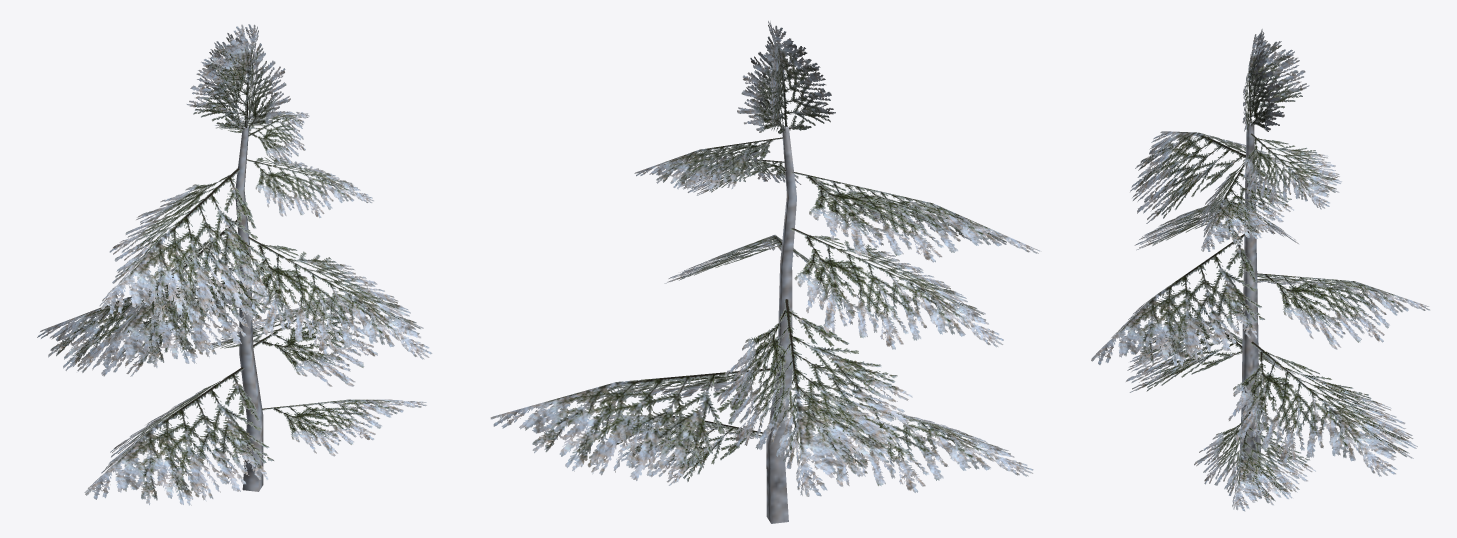
The model's file is SM_EN_2007_guanmu05.FBX.
The picture shows the model from 3 angles, left to right: view 1: azimuth 30°, elevation 25°; view 2: azimuth 150°, elevation 25°; view 3: azimuth 270°, elevation 25°; orthographic projection. The views are drawn at different scales.
Visible parts, largest first — view 1: SM_EN_2007_guanmu05; view 2: SM_EN_2007_guanmu05; view 3: SM_EN_2007_guanmu05.
Part boxes in pixels (x1,y1,x2,y2): SM_EN_2007_guanmu05: (37, 24, 432, 505); SM_EN_2007_guanmu05: (490, 21, 1041, 523); SM_EN_2007_guanmu05: (1091, 29, 1430, 511).
Size of the model in its own units: 347 by 368 by 269.
